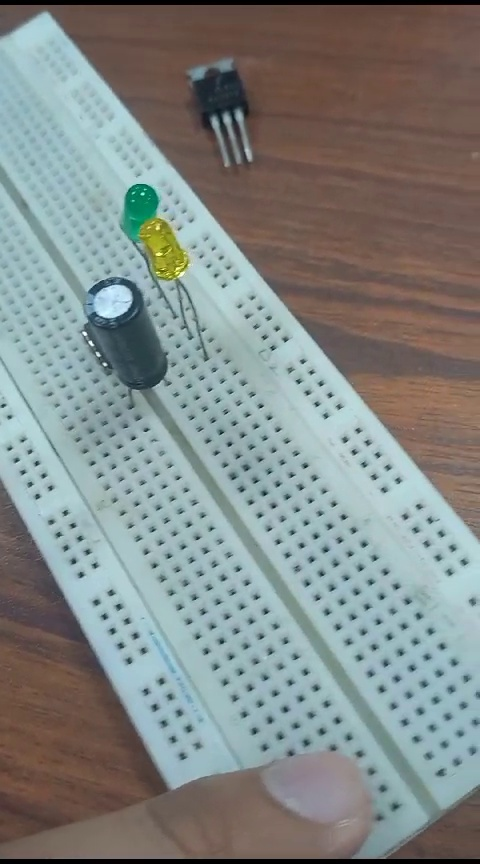LED: (136, 224, 210, 356), (111, 177, 160, 227)
capacitor: (74, 281, 175, 415)
voltage regulator: (174, 56, 263, 175)
